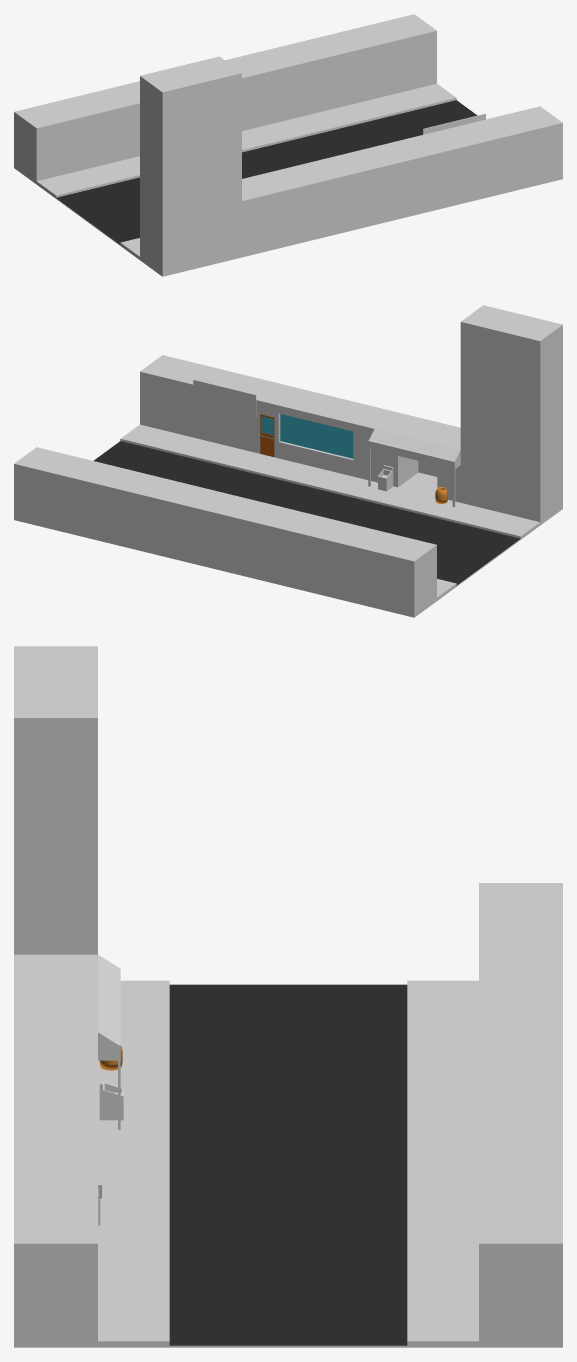
File: Cenario.fbx
3 renders of one model, top to bottom at view 1: azimuth 30°, elevation 25°; view 2: azimuth 150°, elevation 25°; view 3: azimuth 270°, elevation 25°, orthographic. The views are drawn at different scales.
Parts seen in each view (by area): view 1: Cube; view 2: Cube; view 3: Cube.
Part boxes in pixels (box(x1,y1,x2,y2)): Cube: box(14, 14, 562, 276); Cube: box(14, 305, 562, 617); Cube: box(14, 646, 562, 1347).
Size of the model in its own units: 91.57 by 40.3 by 58.87.
